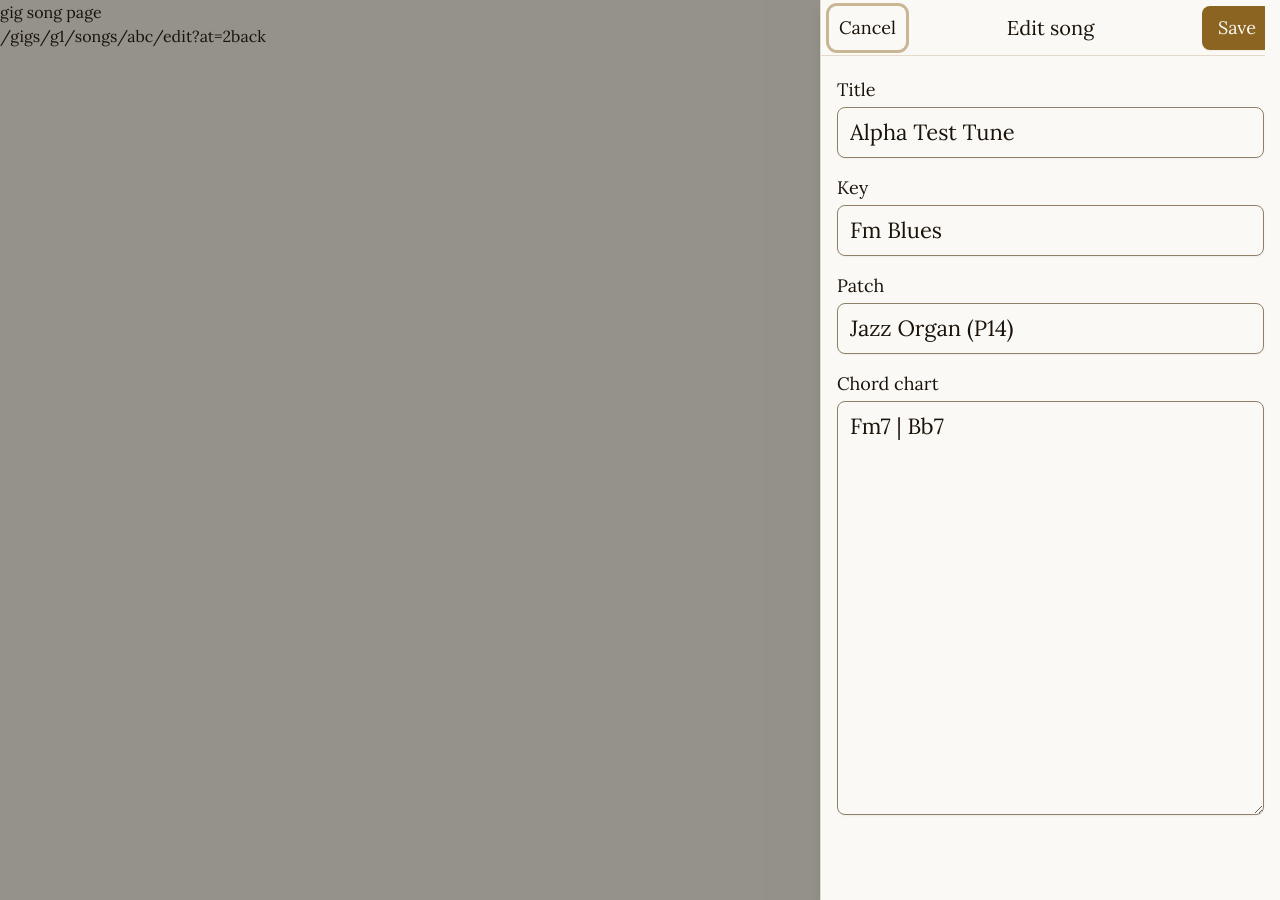
it: SongEdit inside a gig › Save steps back to the gig song page when there is history
Click the button "Save".
click(1237, 28)  # box 1202,6 -> 1272,50
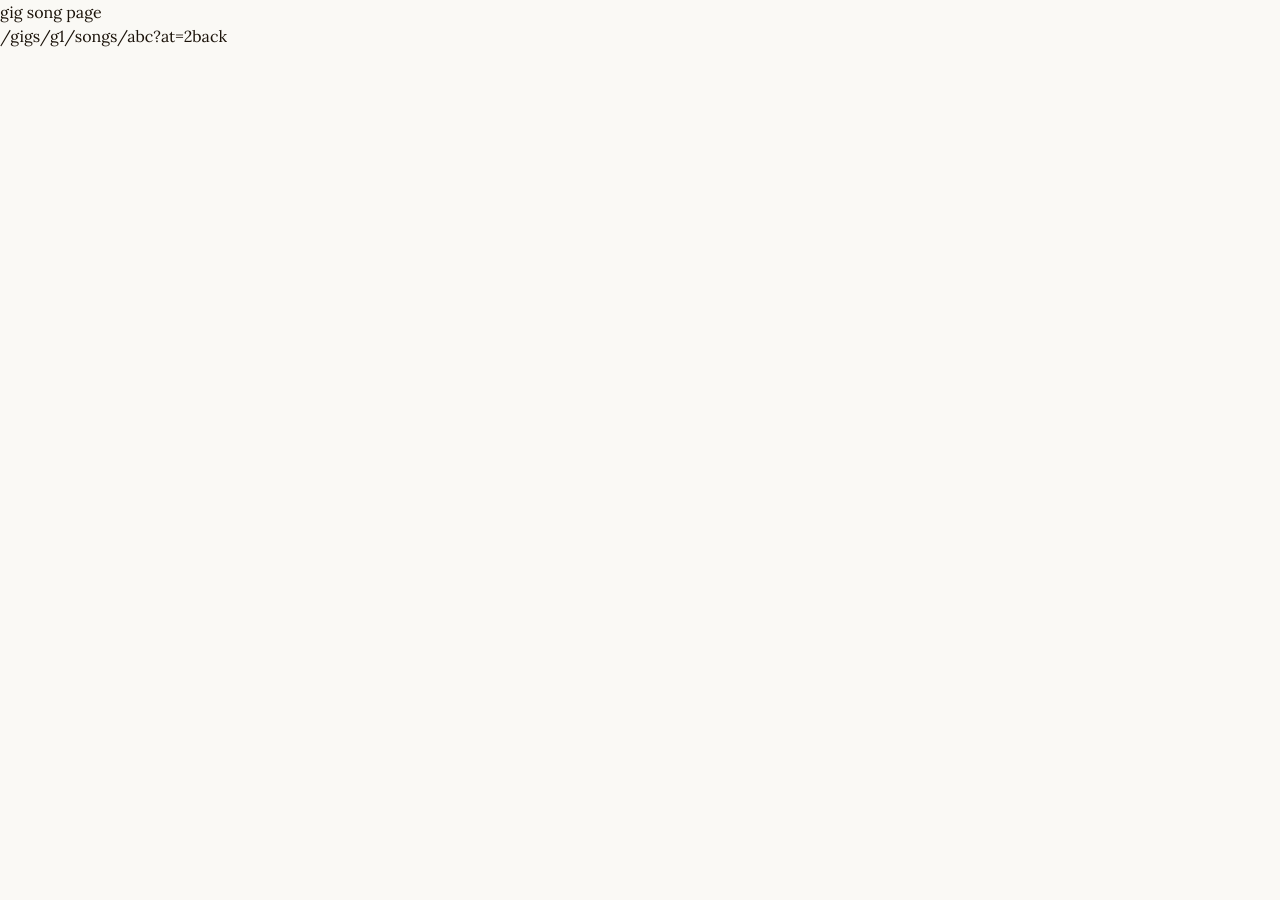
Expected: the dialog is gone
Expected: the text with test id "pathname" reads "/gigs/g1/songs/abc?at=2", 0,26 -> 192,46
